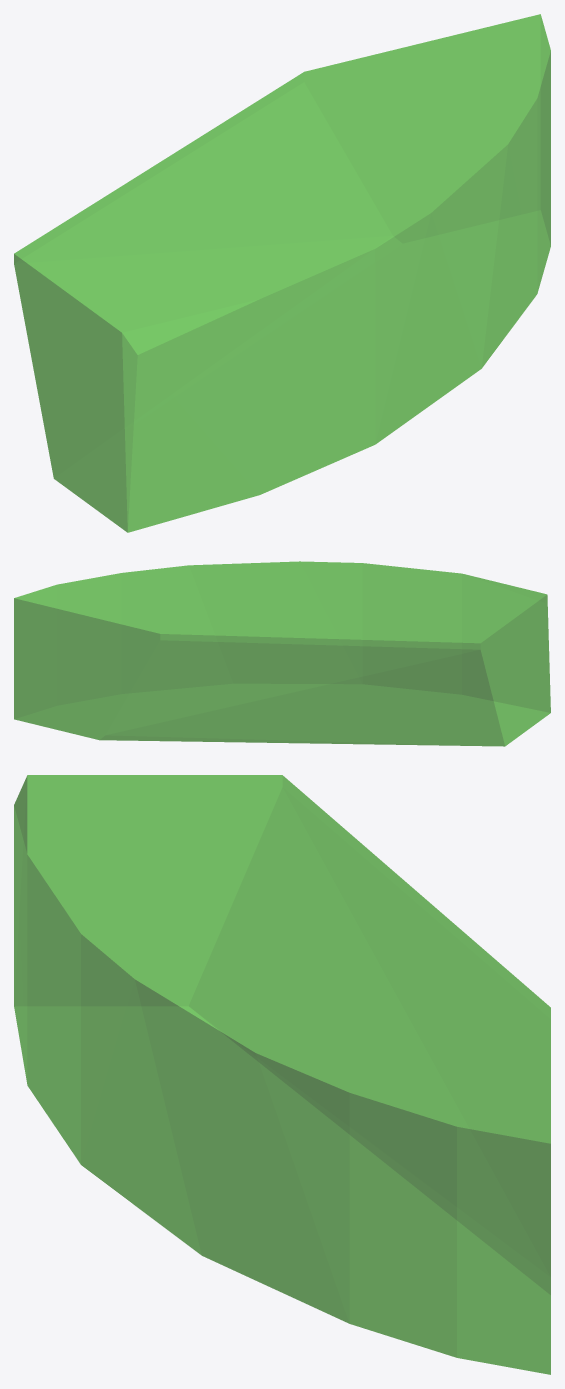
3 renders of one model, top to bottom at view 1: azimuth 30°, elevation 25°; view 2: azimuth 150°, elevation 25°; view 3: azimuth 270°, elevation 25°, orthographic. The views are drawn at different scales.
Parts seen in each view (by area): view 1: Shape_IndexedFaceSet.014_Shape_IndexedFaceSet.17589; view 2: Shape_IndexedFaceSet.014_Shape_IndexedFaceSet.17589; view 3: Shape_IndexedFaceSet.014_Shape_IndexedFaceSet.17589.
Part boxes in pixels (box(x1,y1,x2,y2)): Shape_IndexedFaceSet.014_Shape_IndexedFaceSet.17589: box(14, 14, 550, 532); Shape_IndexedFaceSet.014_Shape_IndexedFaceSet.17589: box(14, 561, 550, 746); Shape_IndexedFaceSet.014_Shape_IndexedFaceSet.17589: box(14, 775, 550, 1374).
Bounding box in the file's own units: 0.1145 × 0.0335 × 0.0705.
